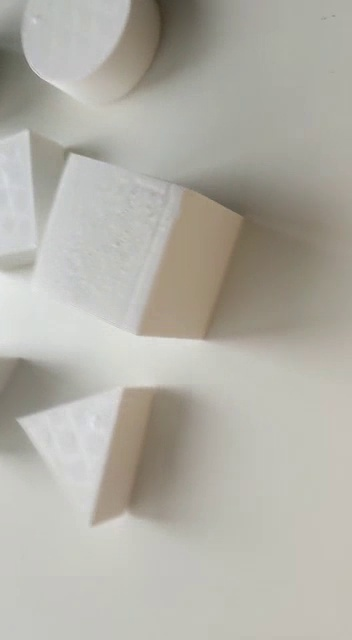Clyinder_short: (17, 1, 168, 108)
Cube: (27, 149, 246, 348)
Cube_short: (1, 123, 77, 273)
Triangle_short: (9, 379, 153, 533)
